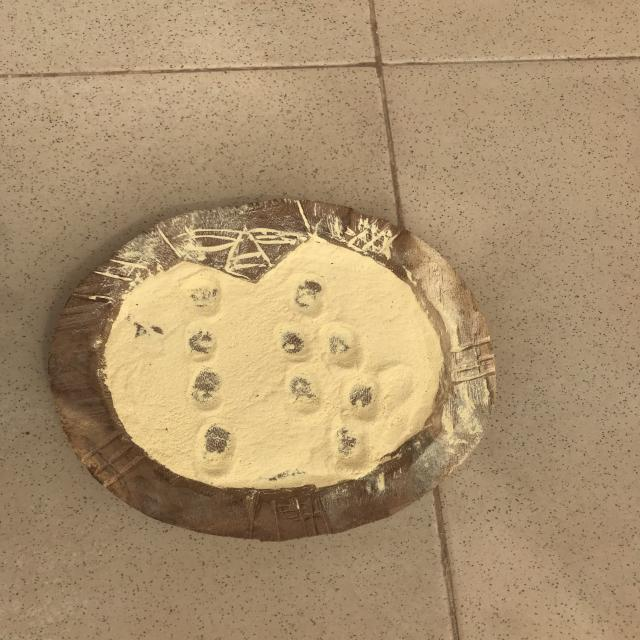double: (286, 364, 386, 422), (277, 321, 372, 370)
single: (330, 417, 380, 474), (194, 416, 240, 476), (180, 272, 230, 320), (286, 272, 334, 320), (190, 366, 230, 416), (184, 320, 222, 367)
